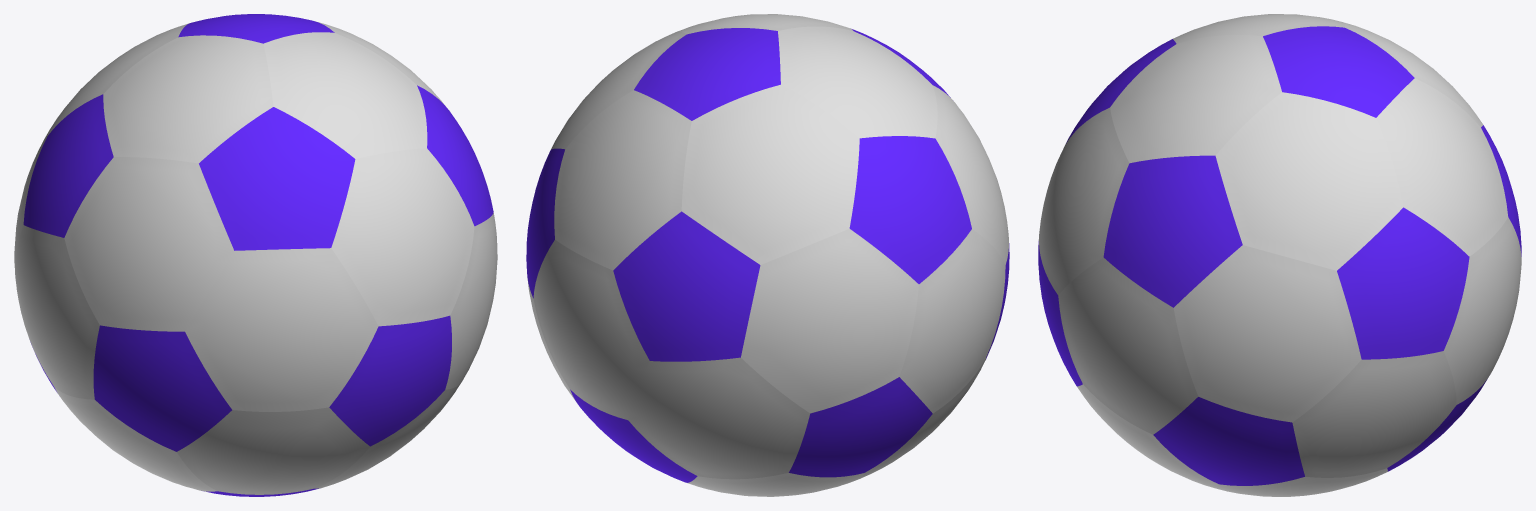
The model's file is completed ball.dae.
3 renders of one model, left to right at view 1: azimuth 30°, elevation 25°; view 2: azimuth 150°, elevation 25°; view 3: azimuth 270°, elevation 25°, orthographic.
Visible parts, largest first — view 1: Solid; view 2: Solid; view 3: Solid.
Part boxes in pixels (x1=…): Solid: x1=14, y1=14, x2=497, y2=496; Solid: x1=526, y1=14, x2=1009, y2=496; Solid: x1=1038, y1=14, x2=1521, y2=496.
Bounding box in the file's own units: 1.68 × 1.68 × 1.68.
